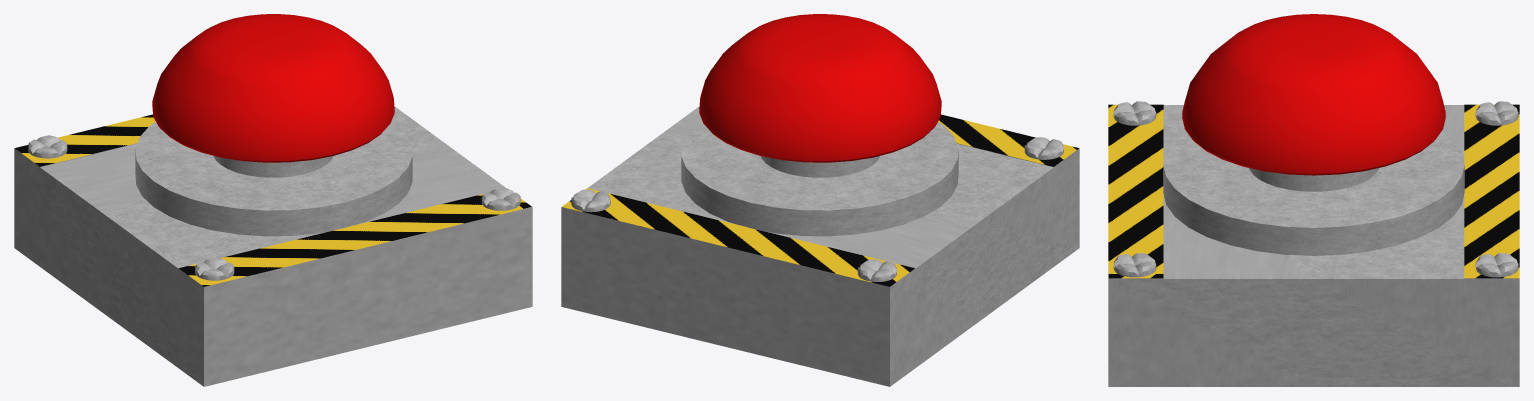
Rendered from boton.fbx.
The picture shows the model from 3 angles, left to right: view 1: azimuth 30°, elevation 25°; view 2: azimuth 150°, elevation 25°; view 3: azimuth 270°, elevation 25°; orthographic projection. The views are drawn at different scales.
Visible parts, largest first — view 1: Cylinder, Cylinder.001; view 2: Cylinder, Cylinder.001; view 3: Cylinder, Cylinder.001.
Boxes of the visible parts, <box> form: Cylinder: <box>14,106,532,386</box>; Cylinder.001: <box>152,14,394,177</box>; Cylinder: <box>561,106,1079,386</box>; Cylinder.001: <box>699,14,941,177</box>; Cylinder: <box>1108,101,1519,386</box>; Cylinder.001: <box>1182,14,1445,191</box>.
Bounding box in the file's own units: 2 × 1.39 × 2.
2 materials, 2 textured.
